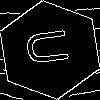U: (25, 25, 79, 68)
